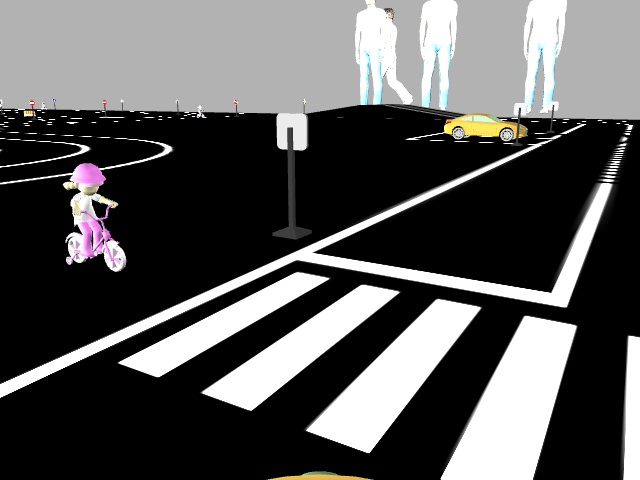Pedestrian: (54, 160, 131, 271)
